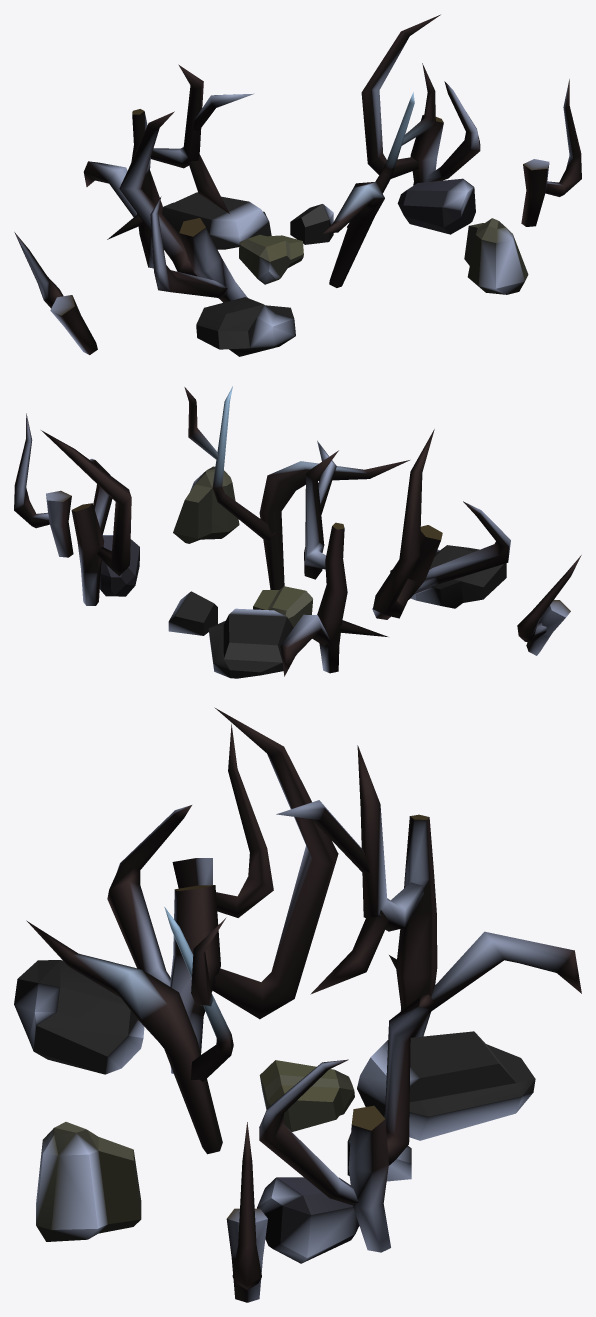
File: Bush_05.fbx
3 renders of one model, top to bottom at view 1: azimuth 30°, elevation 25°; view 2: azimuth 150°, elevation 25°; view 3: azimuth 270°, elevation 25°, orthographic. The views are drawn at different scales.
Parts seen in each view (by area): view 1: Bush_05; view 2: Bush_05; view 3: Bush_05.
Boxes of the visible parts, <box> form: Bush_05: <box>14,14,581,356</box>; Bush_05: <box>14,386,581,678</box>; Bush_05: <box>14,707,581,1302</box>.
Bounding box in the file's own units: 4144 × 1508 × 2338.
